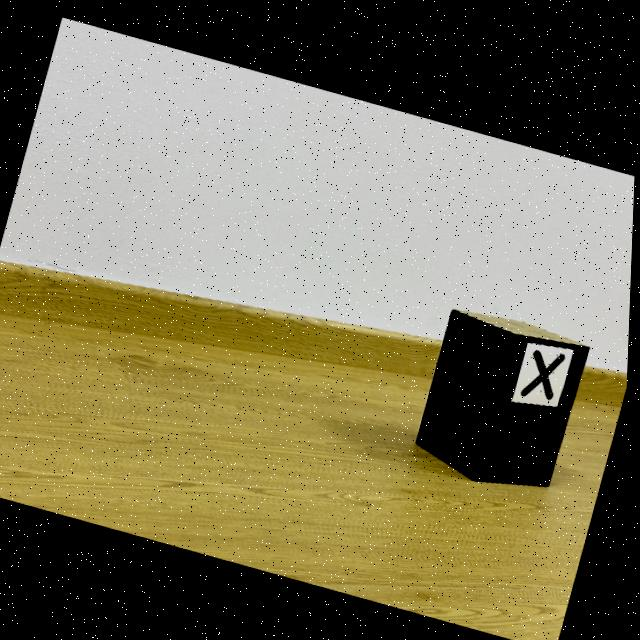X: (523, 345, 567, 395)
